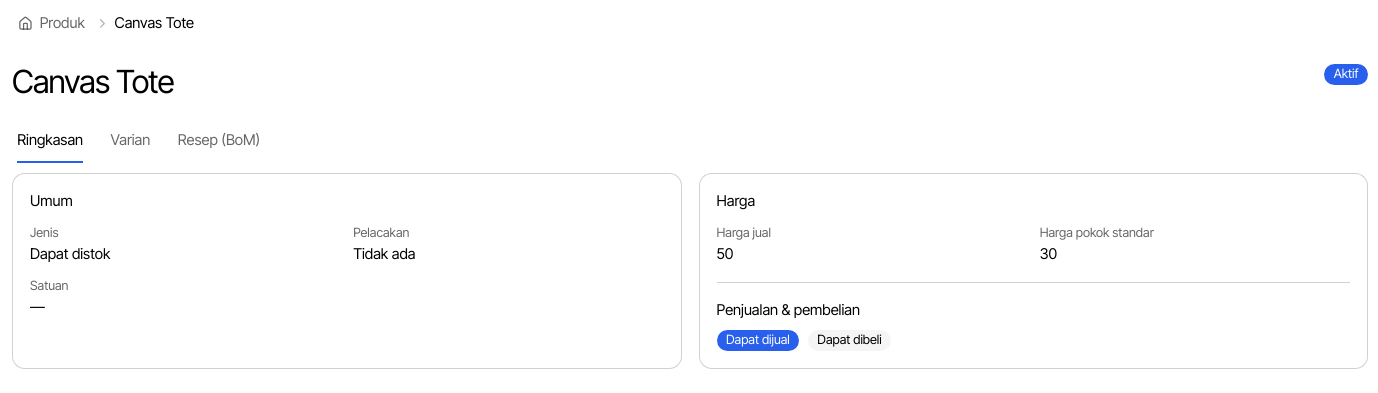
Scenario: ProductDetail › shows bills of materials on the recipes tab
Click the tab "Resep (BoM)". click: click(219, 141)
box: [177,117,261,164]
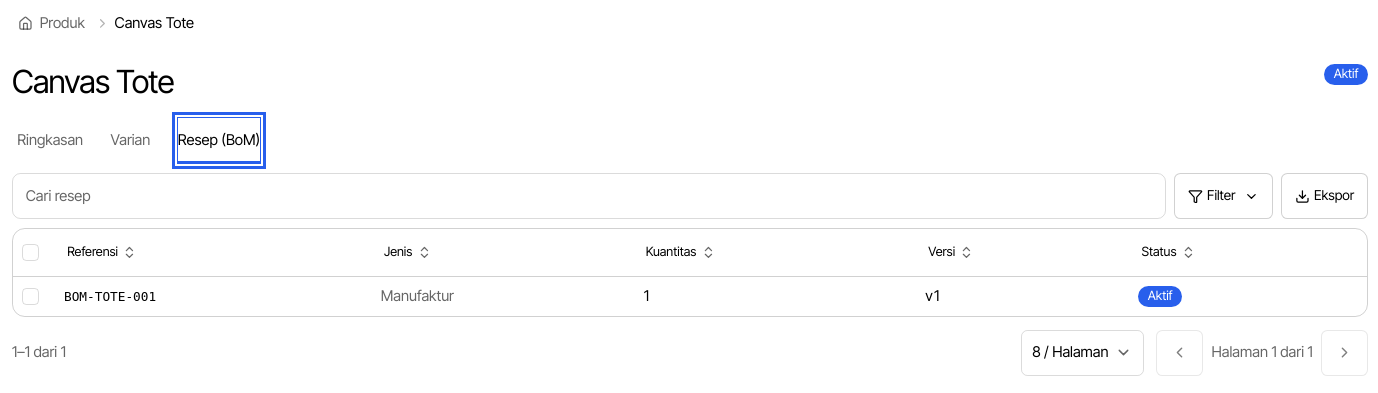
Expected: the text "BOM-TOTE-001" is shown, [64,289,156,304]
